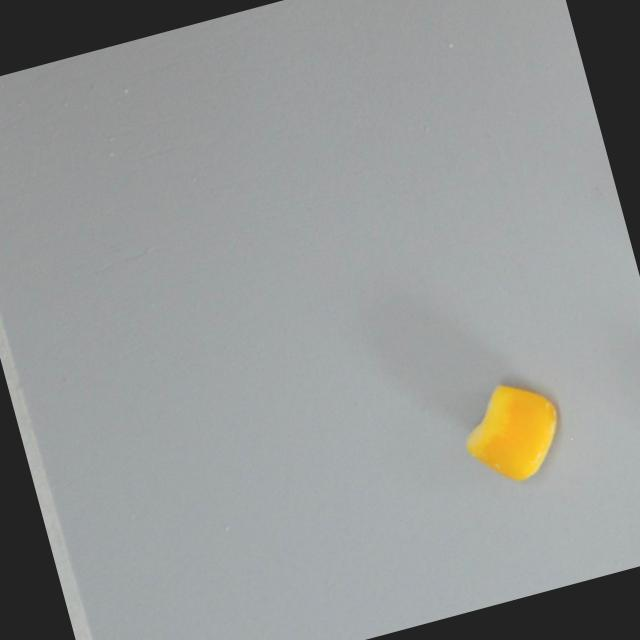no_canjicado: (450, 371, 572, 494)
